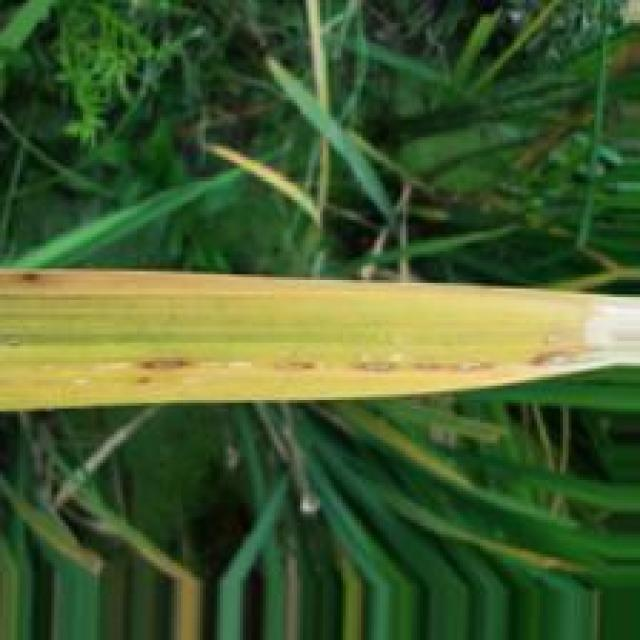Narrow_Brown_Leaf_Spot: (90, 288, 640, 379), (3, 273, 66, 289)
